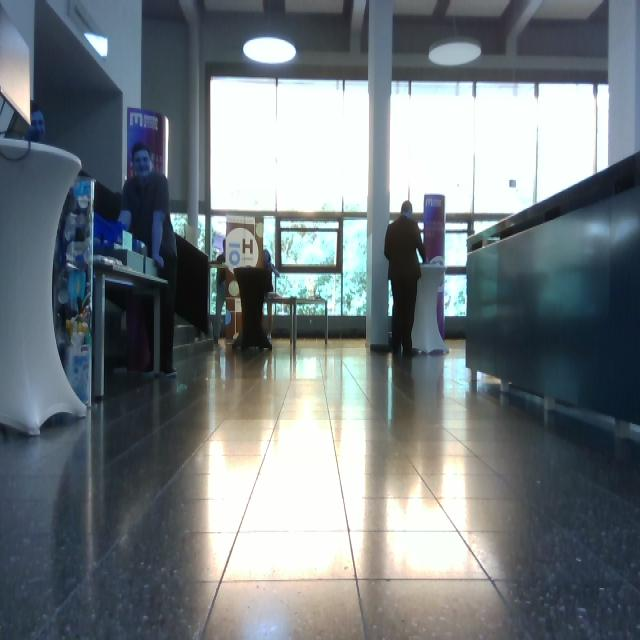light bulb: (428, 1, 482, 68), (242, 1, 298, 65), (429, 37, 482, 68), (243, 36, 297, 65), (84, 32, 109, 58)
person: (117, 143, 179, 379), (384, 201, 427, 358)
pillar: (1, 137, 88, 437), (366, 1, 394, 350)
table: (91, 249, 172, 402)
tiled floor: (2, 335, 639, 639)
